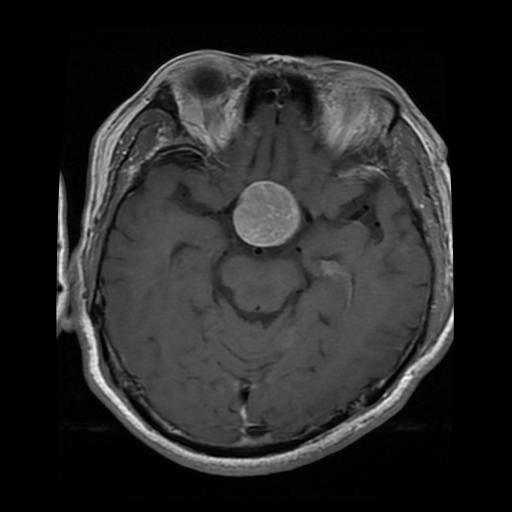Tumour-Pituitary: (234, 181, 302, 253)
